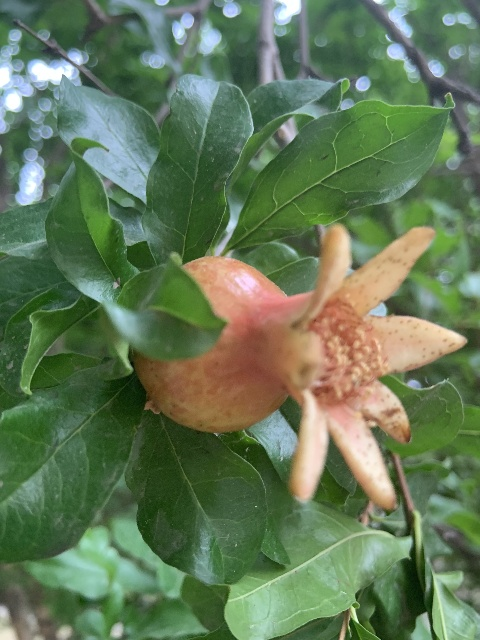early-fruit: (135, 220, 466, 511)
